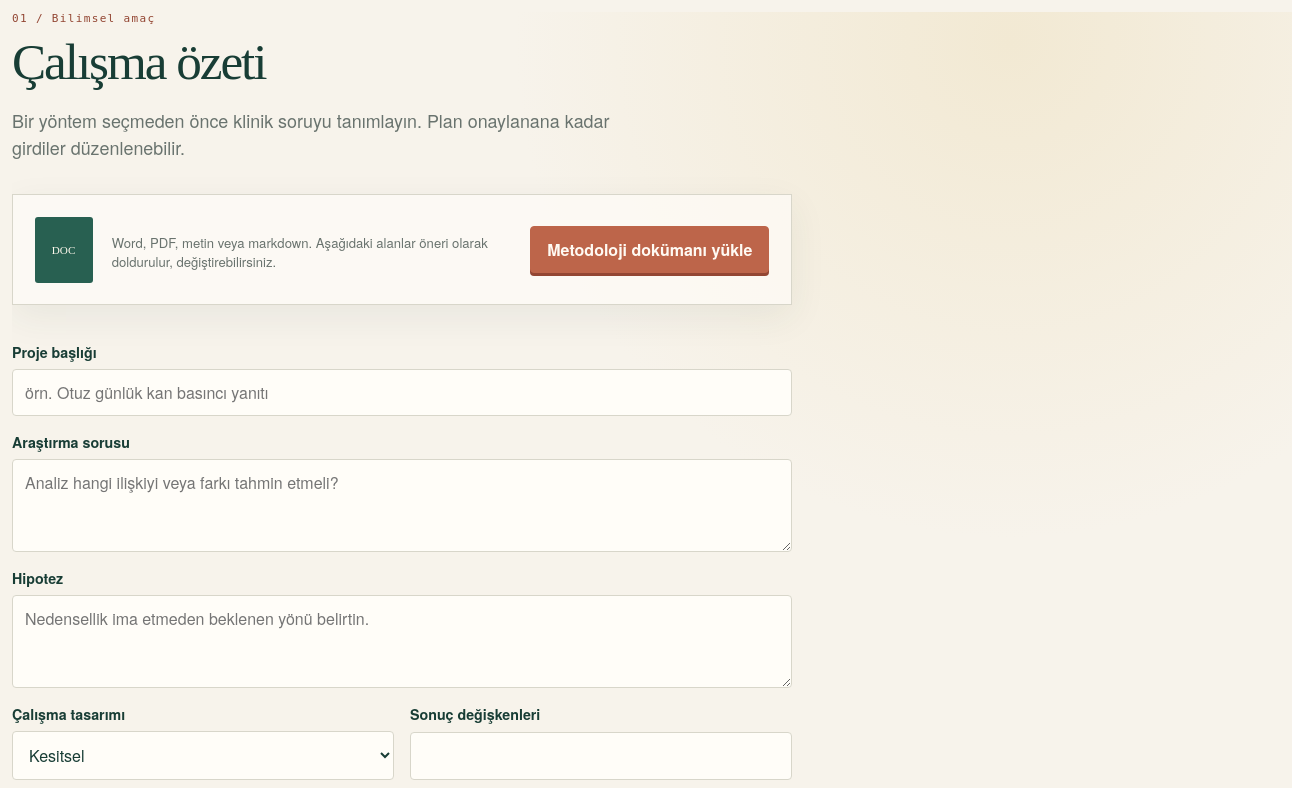
Test: tells the user when a scanned pdf carries no text, and tells them to re-select the file
Click the button "Metodoloji dokümanı yükle" at (650, 250), box [530, 226, 769, 273]
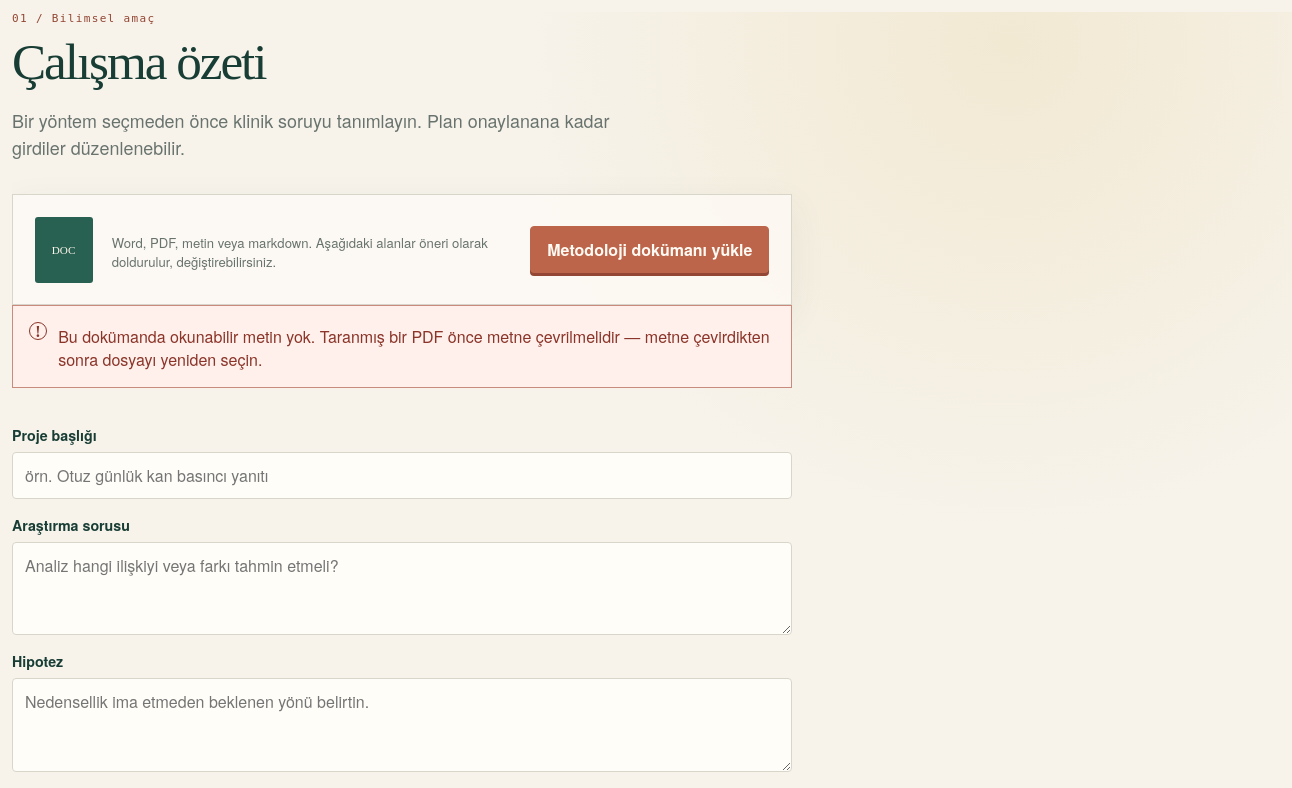
Expected: the message shows "okunabilir metin", [58, 326, 770, 372]
Expected: the message shows "yeniden seç", [58, 326, 770, 372]
